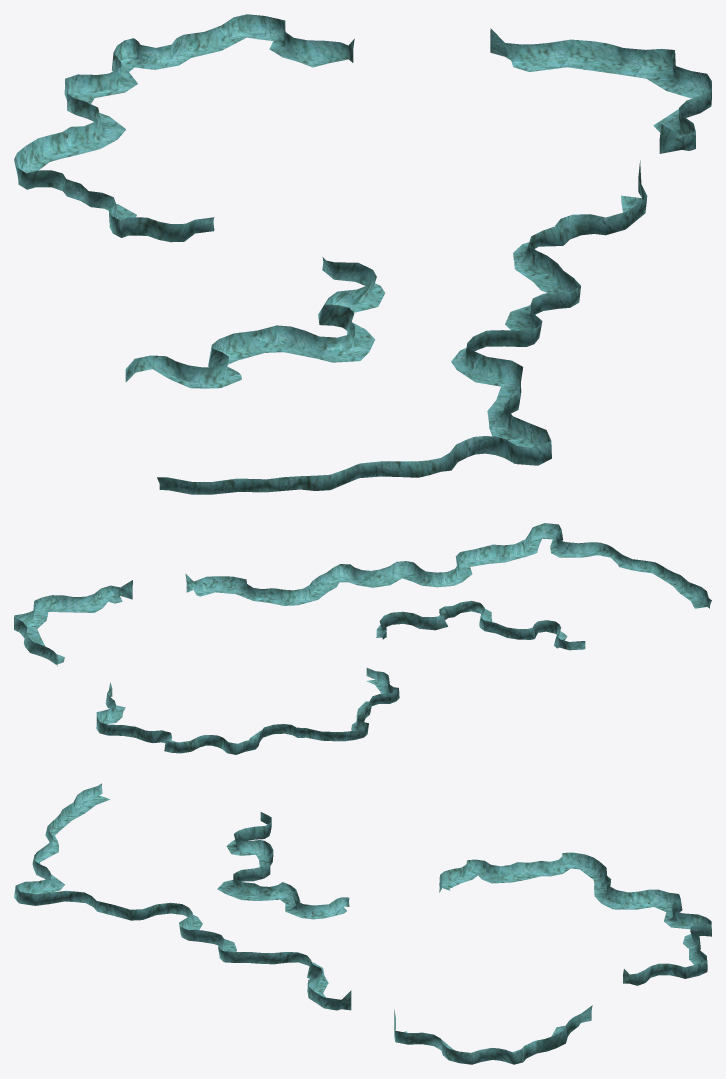
Rendered from EKH_CAVERNS_PS_CA_WALL_TRIM7475.fbx.
The picture shows the model from 3 angles, top to bottom: view 1: azimuth 30°, elevation 25°; view 2: azimuth 150°, elevation 25°; view 3: azimuth 270°, elevation 25°; orthographic projection. The views are drawn at different scales.
Visible parts, largest first — view 1: EKH_CAVERNS_PS_CA_WALL_TRIM7475; view 2: EKH_CAVERNS_PS_CA_WALL_TRIM7475; view 3: EKH_CAVERNS_PS_CA_WALL_TRIM7475.
Boxes of the visible parts, x1,y1,x2,y2 form: EKH_CAVERNS_PS_CA_WALL_TRIM7475: (14,14,711,494); EKH_CAVERNS_PS_CA_WALL_TRIM7475: (14,523,711,754); EKH_CAVERNS_PS_CA_WALL_TRIM7475: (14,783,711,1064).
Bounding box in the file's own units: 624499 × 25006 × 682204.
Materials: 1 (1 with a texture image).
